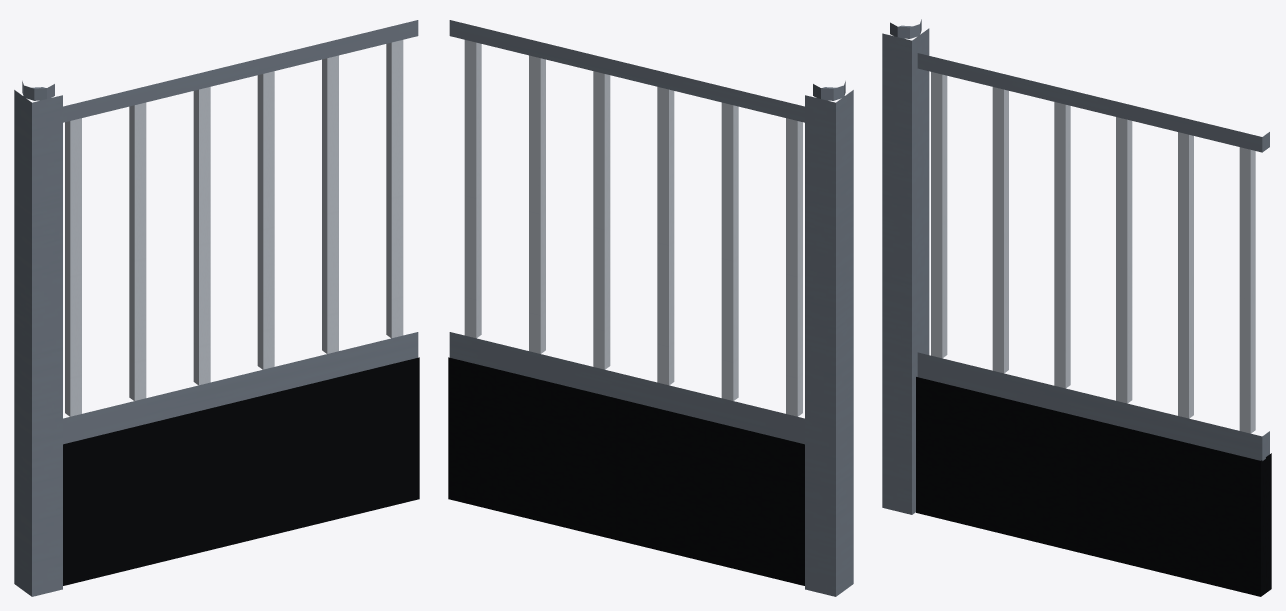
Rendered from tt_play_fence_kick_101.glb.
The picture shows the model from 3 angles, left to right: view 1: azimuth 30°, elevation 25°; view 2: azimuth 150°, elevation 25°; view 3: azimuth 330°, elevation 25°; orthographic projection. The views are drawn at different scales.
Visible parts, largest first — view 1: Kick, Picket, Post, RailLow, RailTop; view 2: Kick, Picket, Post, RailLow, RailTop; view 3: Kick, Picket, Post, RailLow, RailTop.
Boxes of the visible parts, left/top/right/bottom form: Kick: left=63, top=357, right=419, bottom=585; Picket: left=65, top=40, right=403, bottom=416; Post: left=14, top=90, right=62, bottom=596; RailLow: left=63, top=332, right=418, bottom=444; RailTop: left=63, top=20, right=418, bottom=122; Kick: left=448, top=357, right=804, bottom=585; Picket: left=464, top=40, right=802, bottom=416; Post: left=805, top=90, right=853, bottom=596; RailLow: left=449, top=332, right=804, bottom=444; RailTop: left=449, top=20, right=804, bottom=122; Kick: left=916, top=377, right=1271, bottom=596; Picket: left=931, top=72, right=1255, bottom=433; Post: left=882, top=28, right=929, bottom=514; RailLow: left=917, top=352, right=1269, bottom=460; RailTop: left=917, top=53, right=1269, bottom=152.
Size of what is drawn, in the model's own units: 1.01 by 1.25 by 0.08.
3 materials, 3 textured.
